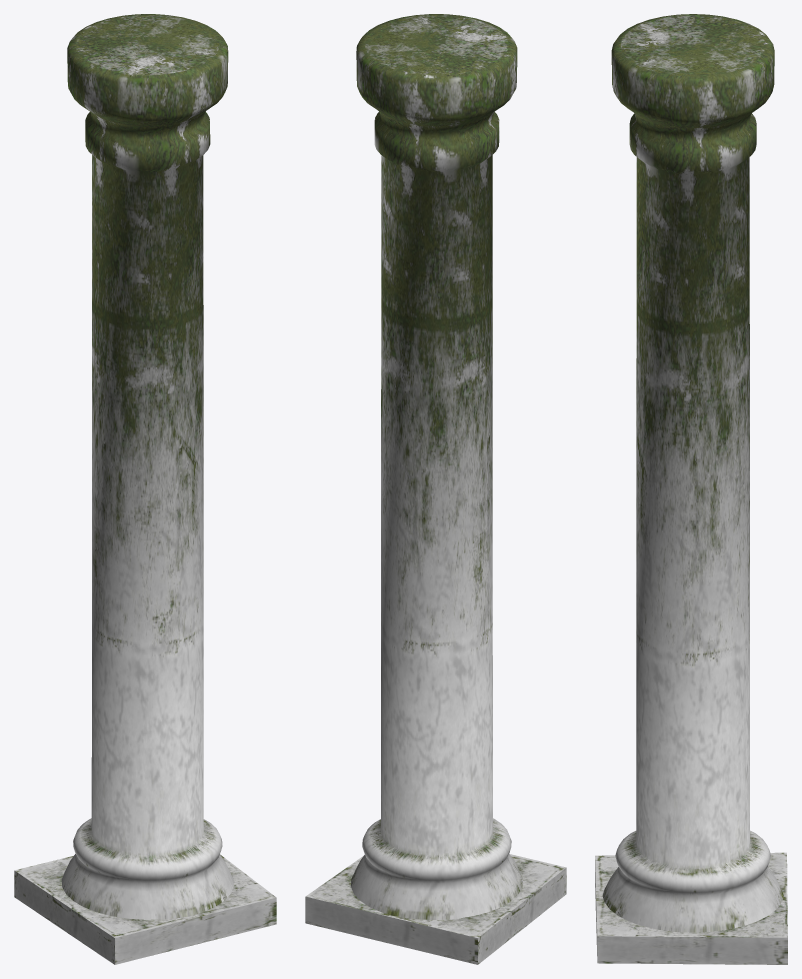
Rendered from column.glb.
3 renders of one model, left to right at view 1: azimuth 30°, elevation 25°; view 2: azimuth 150°, elevation 25°; view 3: azimuth 270°, elevation 25°, orthographic.
Visible parts, largest first — view 1: Cube_Cube.001; view 2: Cube_Cube.001; view 3: Cube_Cube.001.
Part boxes in pixels (x1,y1,x2,y2): Cube_Cube.001: (14,14,276,964); Cube_Cube.001: (305,14,566,964); Cube_Cube.001: (595,14,787,964).
Bounding box in the file's own units: 0.6226 × 2.99 × 0.5961.
Materials: 1 (1 with a texture image).
